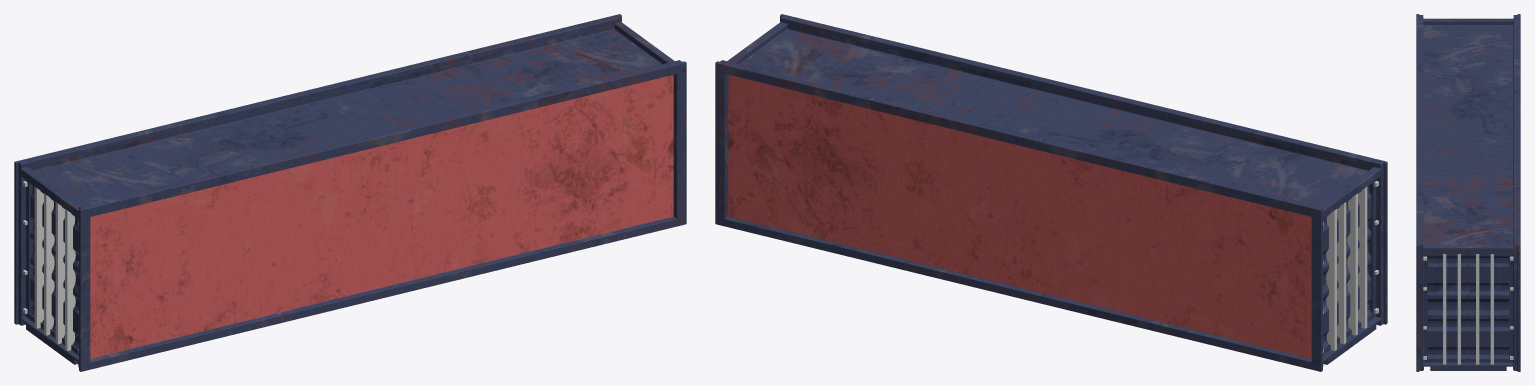
The model's file is redBigCrate.fbx.
3 renders of one model, left to right at view 1: azimuth 30°, elevation 25°; view 2: azimuth 150°, elevation 25°; view 3: azimuth 270°, elevation 25°, orthographic. The views are drawn at different scales.
Parts seen in each view (by area): view 1: redCrateBig_lo; view 2: redCrateBig_lo; view 3: redCrateBig_lo.
Part boxes in pixels (left/top/right/bottom): redCrateBig_lo: left=14, top=14, right=686, bottom=371; redCrateBig_lo: left=715, top=14, right=1387, bottom=371; redCrateBig_lo: left=1416, top=14, right=1520, bottom=371.
Size of the model in its own units: 12.1 by 3.09 by 2.3.
